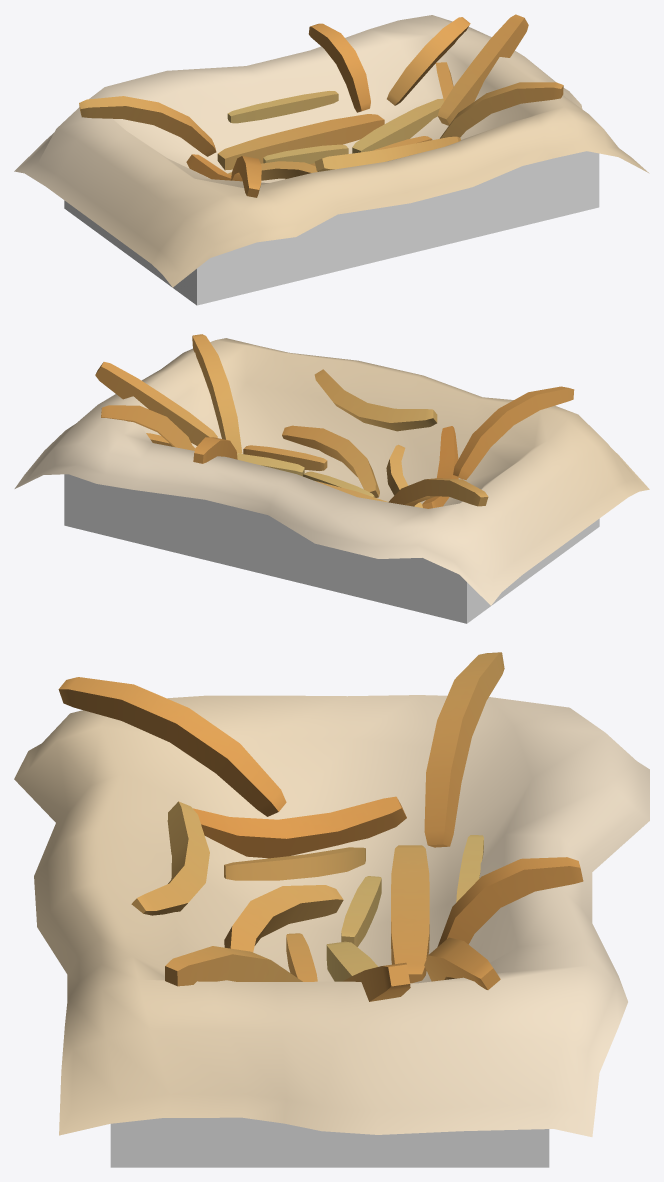
File: ITM_Chips.fbx
The picture shows the model from 3 angles, top to bottom: view 1: azimuth 30°, elevation 25°; view 2: azimuth 150°, elevation 25°; view 3: azimuth 270°, elevation 25°; orthographic projection. The views are drawn at different scales.
Parts seen in each view (by area): view 1: ChipsBox; view 2: ChipsBox; view 3: ChipsBox.
Part boxes in pixels (<box>): ChipsBox: <box>14,14,649,305</box>; ChipsBox: <box>14,334,649,623</box>; ChipsBox: <box>14,652,649,1167</box>.
Bounding box in the file's own units: 33.21 × 8.15 × 22.57.
